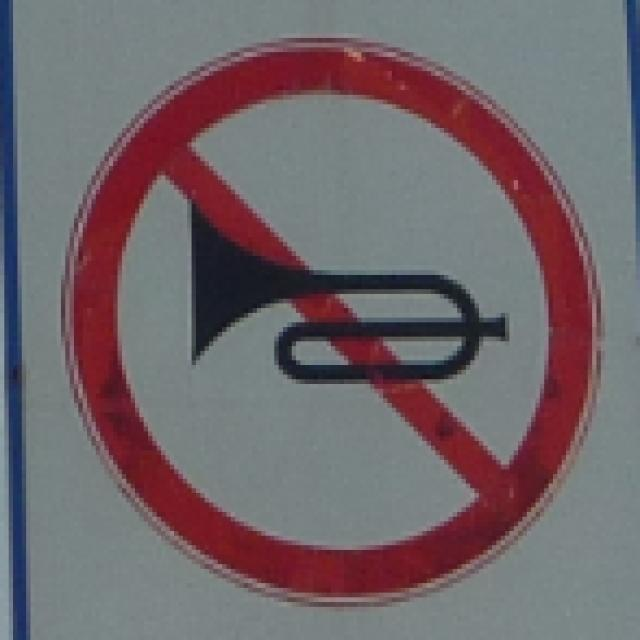No Horn: (68, 38, 597, 605)
